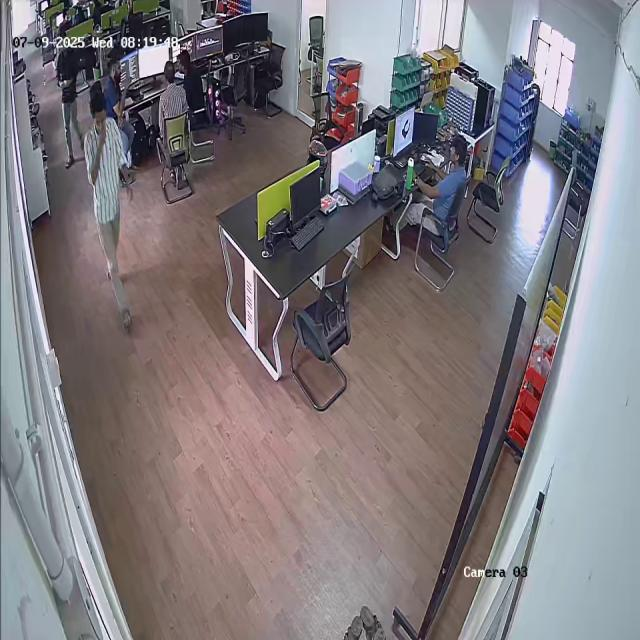person: (83, 94, 133, 338), (408, 133, 472, 234), (54, 32, 86, 164), (152, 61, 186, 128)
